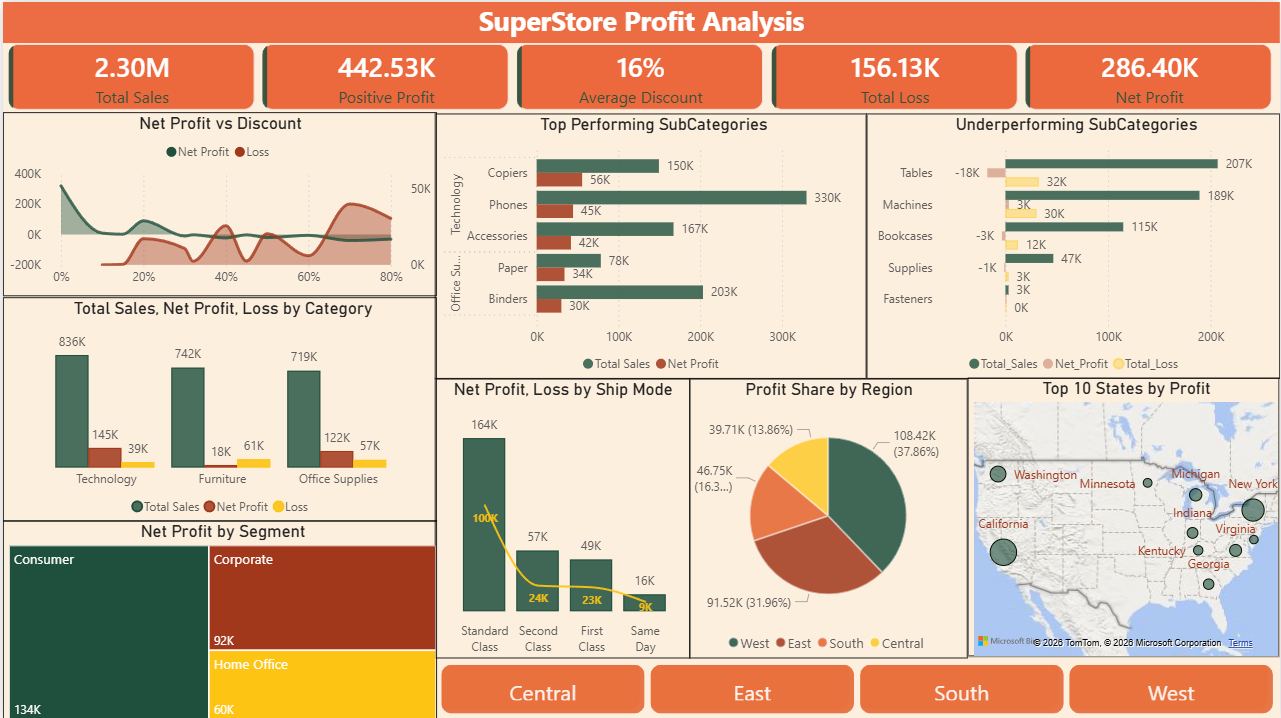

This screenshot's page, from the dashboard's own definition file:
{"tool":"powerbi","page":{"name":"Dashboard","canvas":[1280,720],"ordinal":0},"visuals":[{"type":"shape","box":[0,0,1279.8,41.3],"z":0},{"type":"textbox","box":[0,0,1280,41.4],"z":1000},{"type":"cardVisual","fields":{"Data":["Superstore-Data.Total_Sales","Superstore-Data.Total_Profit","Avg(Superstore-Data.Discount)","Superstore-Data.Total_Loss","Superstore-Data.Net_Profit"]},"box":[0,37.1,1280,76.9],"z":2000},{"type":"lineChart","title":"Net Profit vs Discount","fields":{"Y":["Superstore-Data.Net_Profit"],"Category":["Superstore-Data.Discount"],"Y2":["Superstore-Data.Total_Loss"]},"box":[0,110.9,434.8,184.5],"z":3000},{"type":"pieChart","title":"Profit Share by Region","fields":{"Category":["Superstore-Data.Region"],"Y":["Superstore-Data.Net_Profit"]},"box":[688.6,377.1,278.6,280],"z":4000},{"type":"clusteredColumnChart","title":"Total Sales, Net Profit, Loss by Category","fields":{"Category":["Superstore-Data.Category"],"Y":["Superstore-Data.Total_Sales","Superstore-Data.Net_Profit","Superstore-Data.Total_Loss"]},"box":[0,295.4,434.8,224.5],"z":5000},{"type":"clusteredBarChart","title":"Top Performing SubCategories","fields":{"Category":["Superstore-Data.Category","Superstore-Data.Sub-Category","Superstore-Data.Product Name"],"Y":["Superstore-Data.Total_Sales","Superstore-Data.Net_Profit"]},"box":[432.9,111.4,432.9,265.7],"z":6000},{"type":"lineClusteredColumnComboChart","title":"Net Profit, Loss by Ship Mode","fields":{"Category":["Superstore-Data.Ship Mode"],"Y":["Superstore-Data.Net_Profit"],"Y2":["Superstore-Data.Total_Loss"]},"box":[432.9,377.1,255.7,280],"z":7000},{"type":"clusteredBarChart","title":"Underperforming SubCategories","fields":{"Category":["Superstore-Data.Sub-Category","Superstore-Data.Product Name"],"Y":["Superstore-Data.Total_Sales","Superstore-Data.Net_Profit","Superstore-Data.Total_Loss"]},"box":[865.7,111.4,414.3,265.7],"z":8000},{"type":"treemap","title":"Net Profit by Segment","fields":{"Group":["Superstore-Data.Segment"],"Values":["Superstore-Data.Net_Profit"]},"box":[0,519.9,434.8,200],"z":9000},{"type":"map","title":"Top 10 States by Profit","fields":{"Category":["Superstore-Data.State"],"Size":["Superstore-Data.Total_Sales"]},"box":[967.6,376.7,312.2,280],"z":10000},{"type":"advancedSlicerVisual","fields":{"Values":["Superstore-Data.Region"]},"box":[434.3,659.3,840,54.3],"z":11000}]}

Visuals, with their boxes in screenshot pixels (x1, y1, x2, y2), scaled from the page's 1280x720 canvas onto the 1281x718 screenshot:
shape: l=0, t=0, r=1280, b=41
textbox: l=0, t=0, r=1280, b=41
cardVisual - Superstore-Data.Total_Sales x Superstore-Data.Total_Profit: l=0, t=37, r=1280, b=114
"Net Profit vs Discount" lineChart: l=0, t=111, r=435, b=295
"Profit Share by Region" pieChart: l=689, t=376, r=968, b=655
"Total Sales, Net Profit, Loss by Category" clusteredColumnChart: l=0, t=295, r=435, b=518
"Top Performing SubCategories" clusteredBarChart: l=433, t=111, r=866, b=376
"Net Profit, Loss by Ship Mode" lineClusteredColumnComboChart: l=433, t=376, r=689, b=655
"Underperforming SubCategories" clusteredBarChart: l=866, t=111, r=1280, b=376
"Net Profit by Segment" treemap: l=0, t=518, r=435, b=717
"Top 10 States by Profit" map: l=968, t=376, r=1280, b=655
advancedSlicerVisual - Superstore-Data.Region: l=435, t=657, r=1275, b=712
